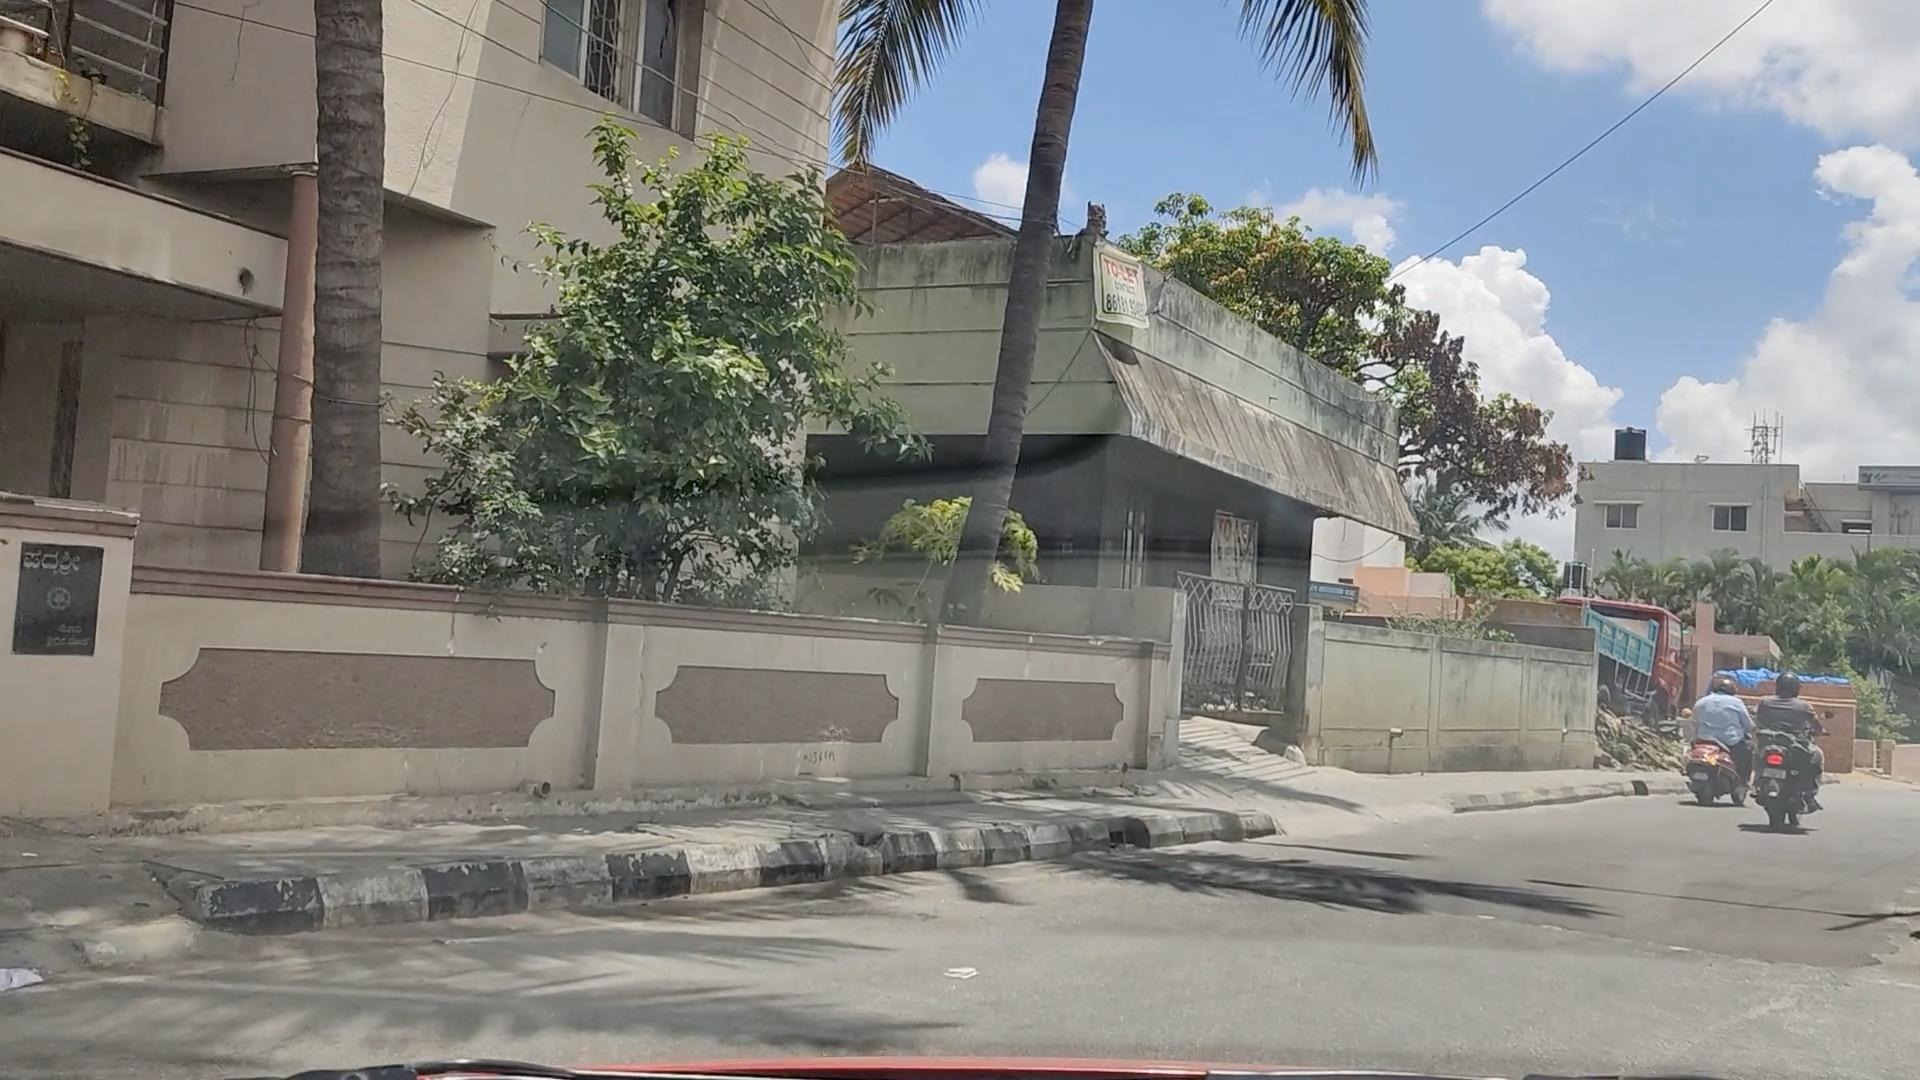RoadDamages: (1796, 897, 1920, 1027)
